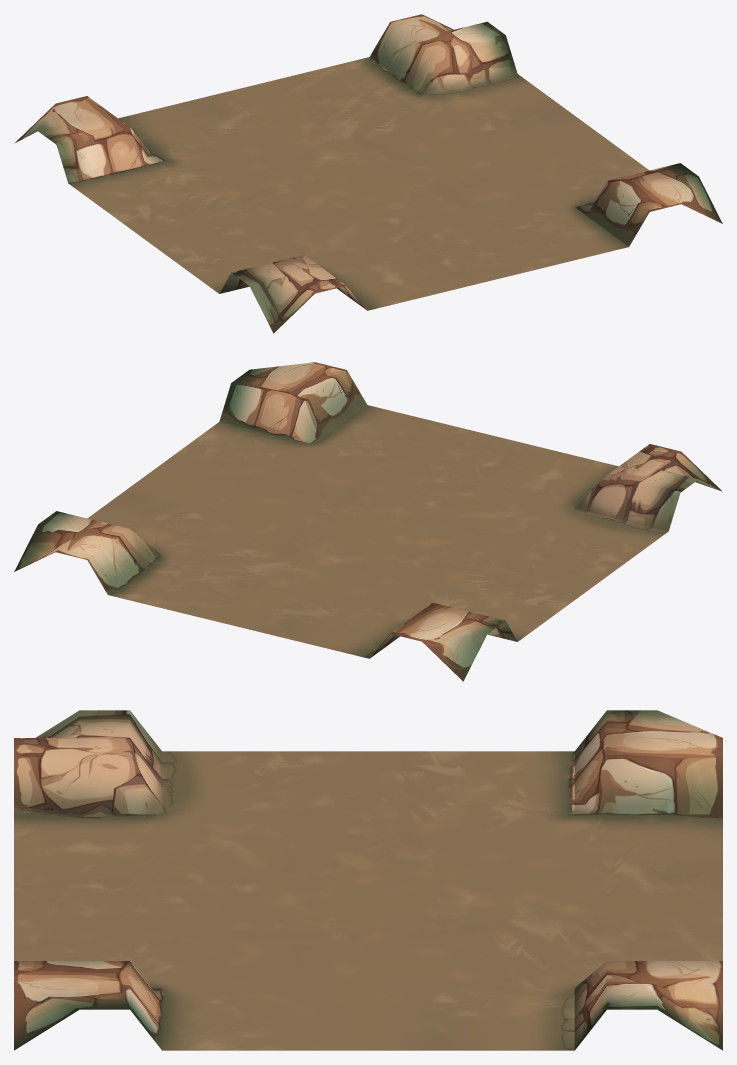
File: m_StreetTile_crossing.fbx
3 renders of one model, top to bottom at view 1: azimuth 30°, elevation 25°; view 2: azimuth 150°, elevation 25°; view 3: azimuth 270°, elevation 25°, orthographic. The views are drawn at different scales.
Visible parts, largest first — view 1: crossing.001; view 2: crossing.001; view 3: crossing.001.
Part boxes in pixels (<box>): crossing.001: <box>14,14,722,333</box>; crossing.001: <box>14,362,722,681</box>; crossing.001: <box>14,710,722,1050</box>.
Bounding box in the file's own units: 800 × 51.12 × 800.
